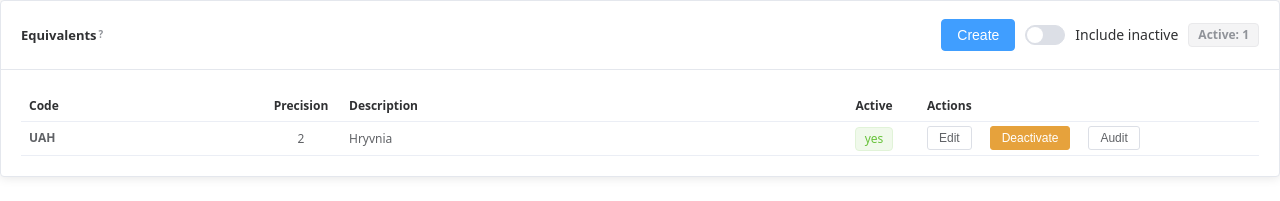
Scenario: Equivalents: a usage answer that was in flight during a change is not kept › shows the usage read after the change, not the one that was on its way when it happened
Hover over the cell "UAH": (141, 139) x1=21 y1=122 x2=261 y2=156
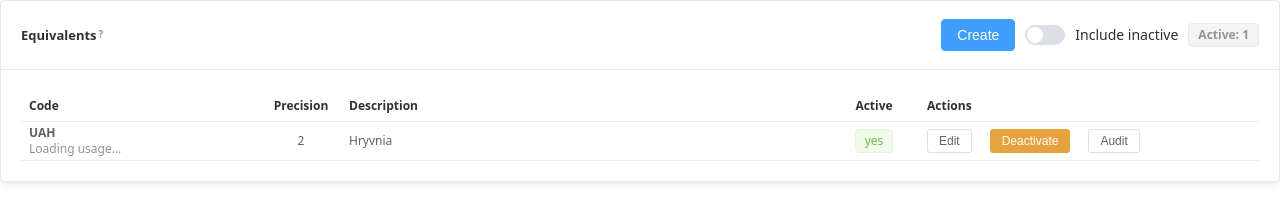
Click the button "Deactivate": (1030, 141) x1=990 y1=129 x2=1070 y2=153
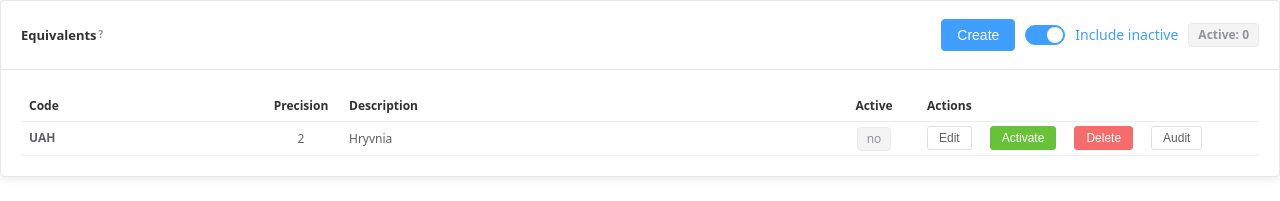
Hover over the cell "UAH": (141, 139) x1=21 y1=122 x2=261 y2=156
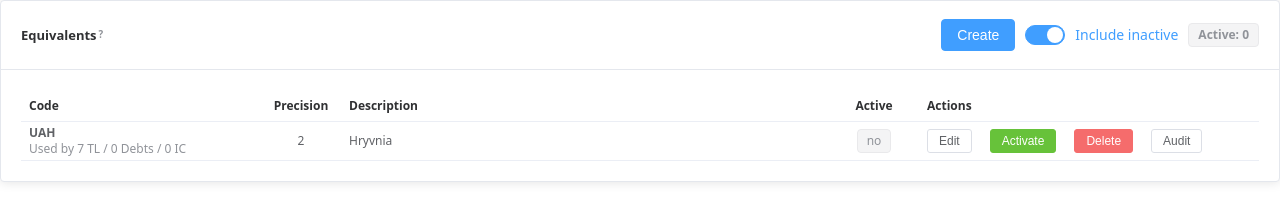
Now the text with class "code__sub" shows "7", box x1=29 y1=140 x2=186 y2=156
